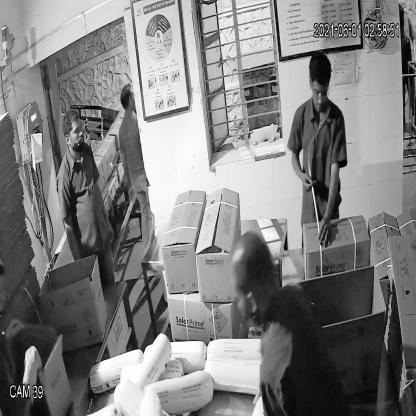goggles: (308, 80, 332, 102)
